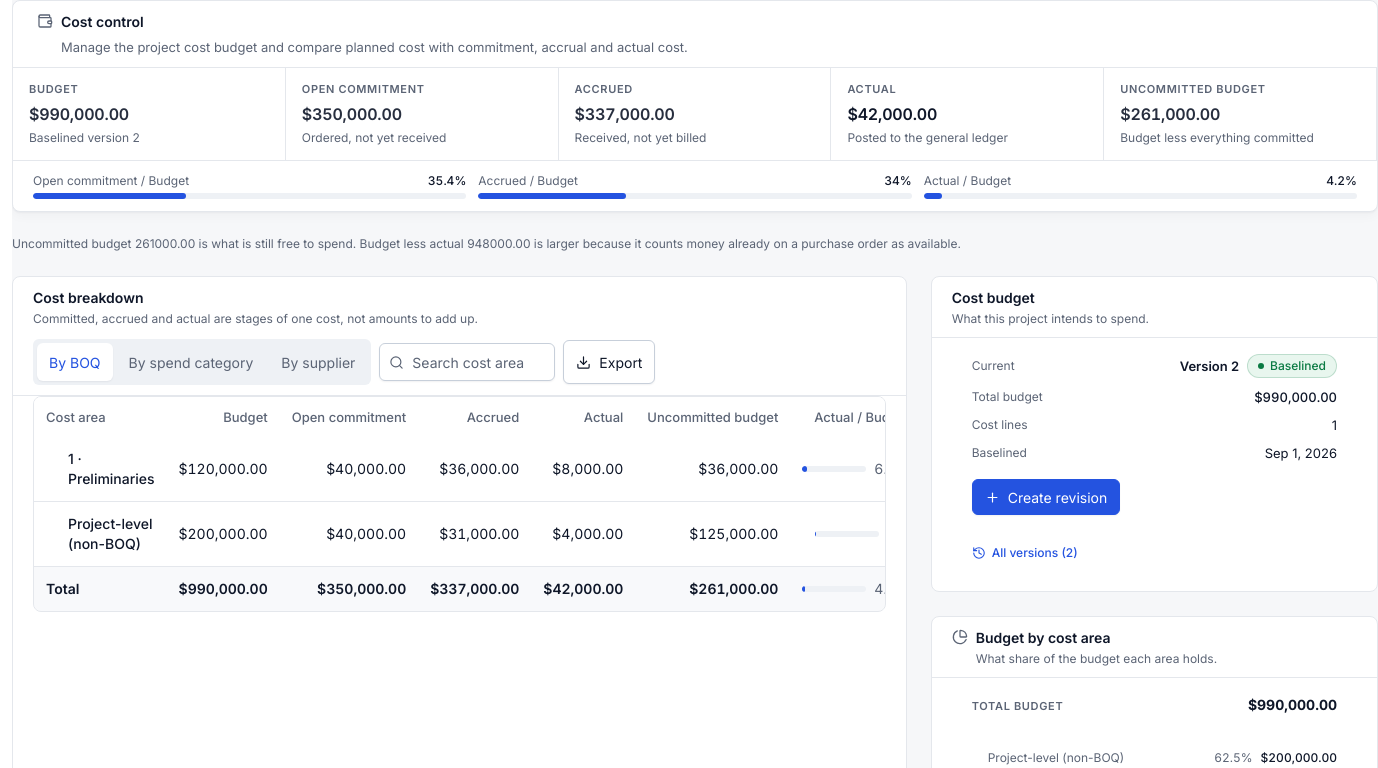
Scenario: CostControlView › puts the budget table into edit mode for a revision, starting from the baselined lines
Click the button "Create revision" at (1046, 497), box [972,479,1120,515]
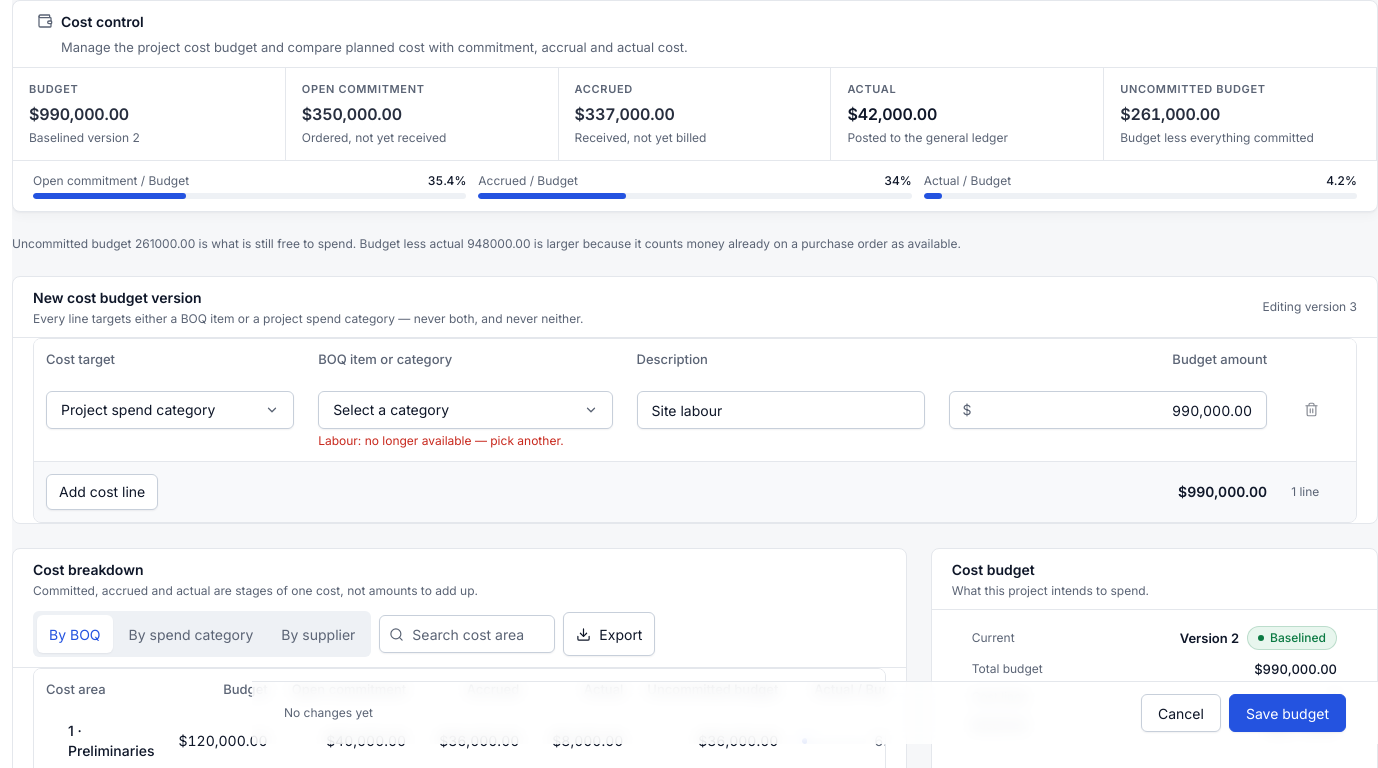
Expected: the heading "New cost budget version" is shown, [33,289,202,306]
Expected: the text "Editing version 3" is shown, [1262,299,1357,315]
Expected: the field named "Description, line 1" holds "Site labour", [636,391,924,429]
Click the button "Cancel" at (1181, 713), box [1141,694,1221,732]
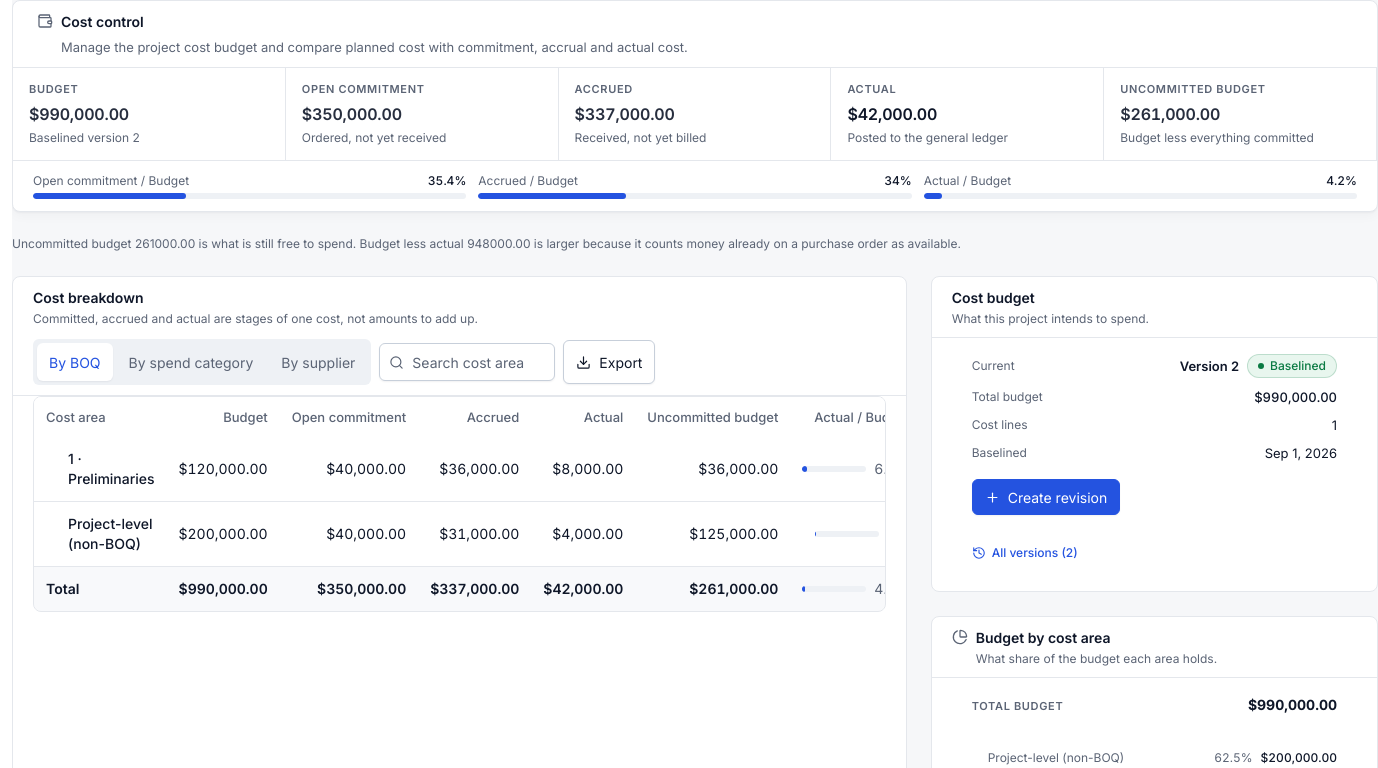
Expected: the button "Create revision" is shown, [972,479,1120,515]
